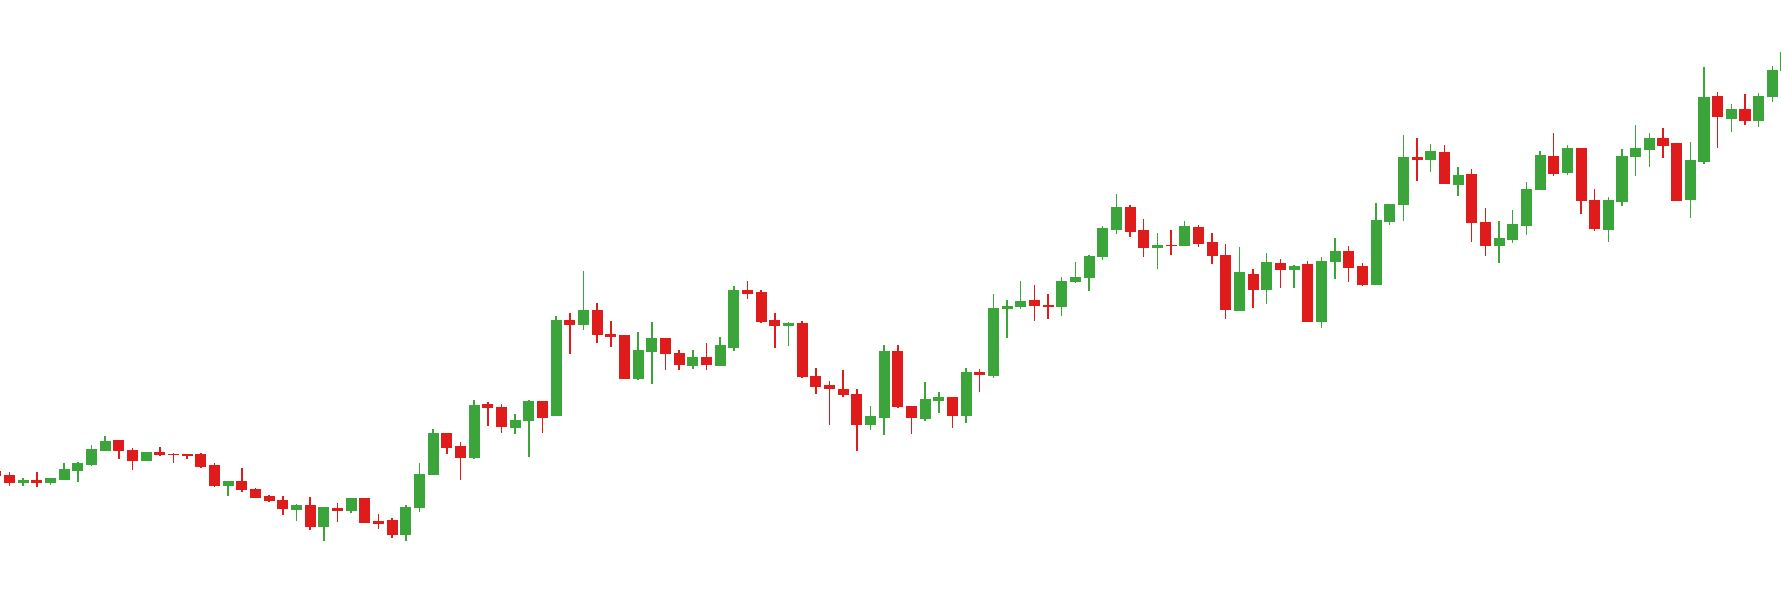buy: (1071, 226, 1248, 318)
